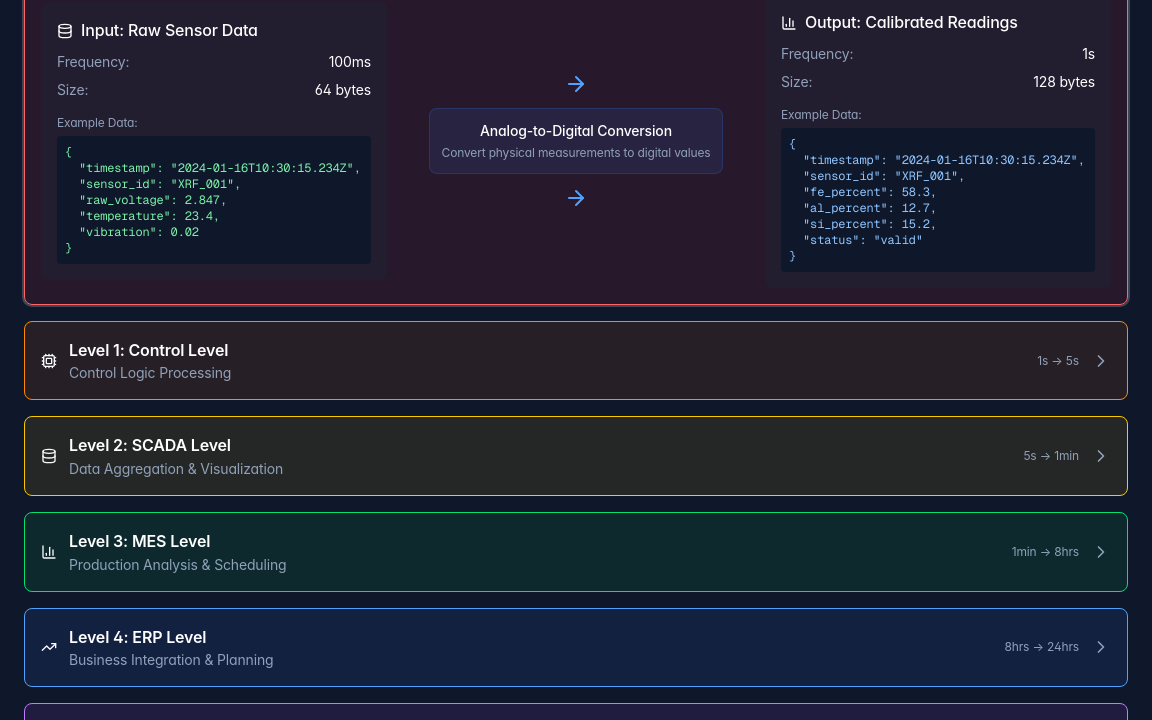
Test: DataTransformationExamples › expands level when clicked
This screenshot has width=1152, height=720.
(page scrolled)
Step 1. Click the text "Level 1: Control Level" → [150, 361], box [69,338,231,383]
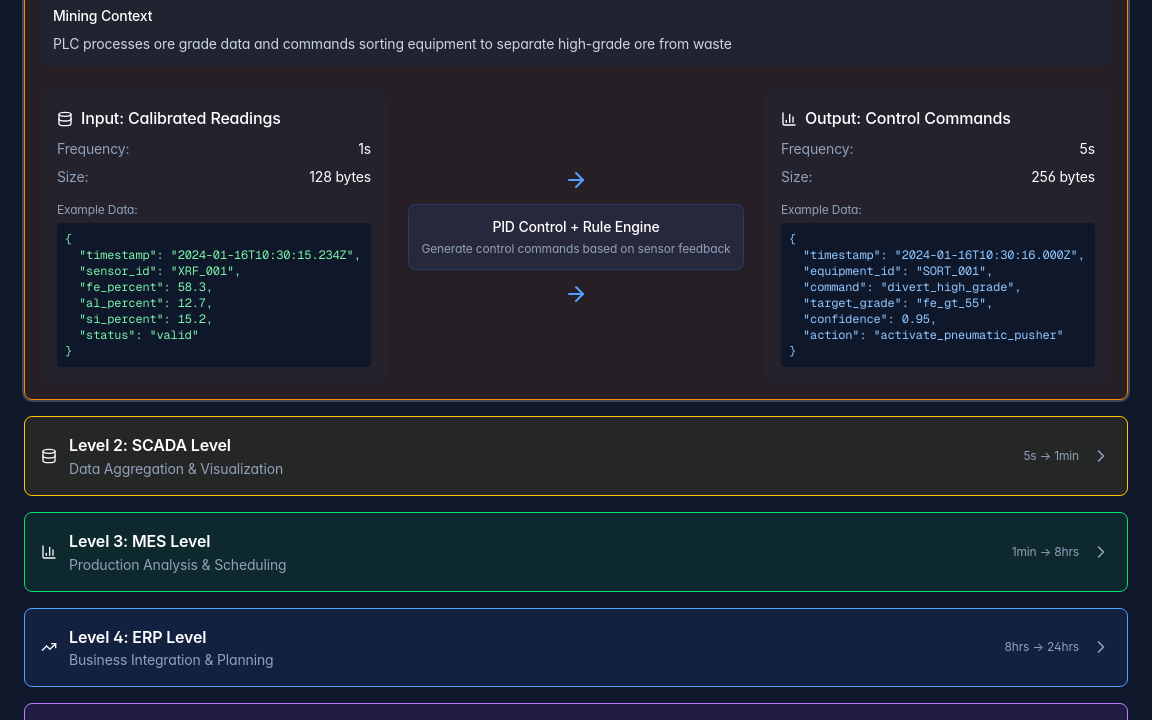
Check: the text "PLC processes ore grade data" is shown, box [53,35,732,52]
